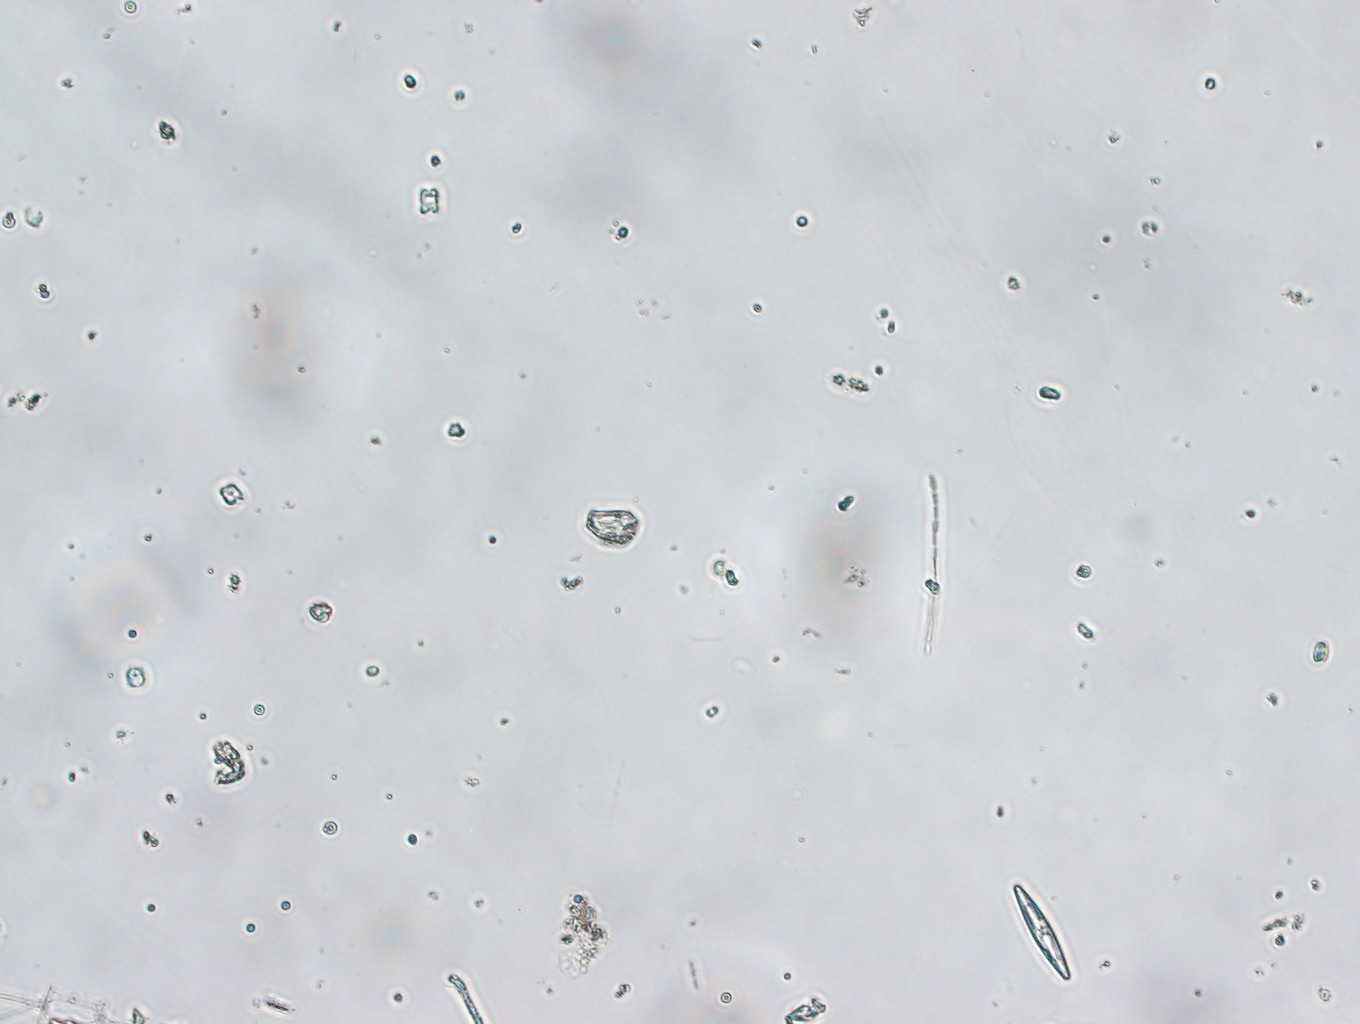navicula: (1008, 878, 1074, 986)
